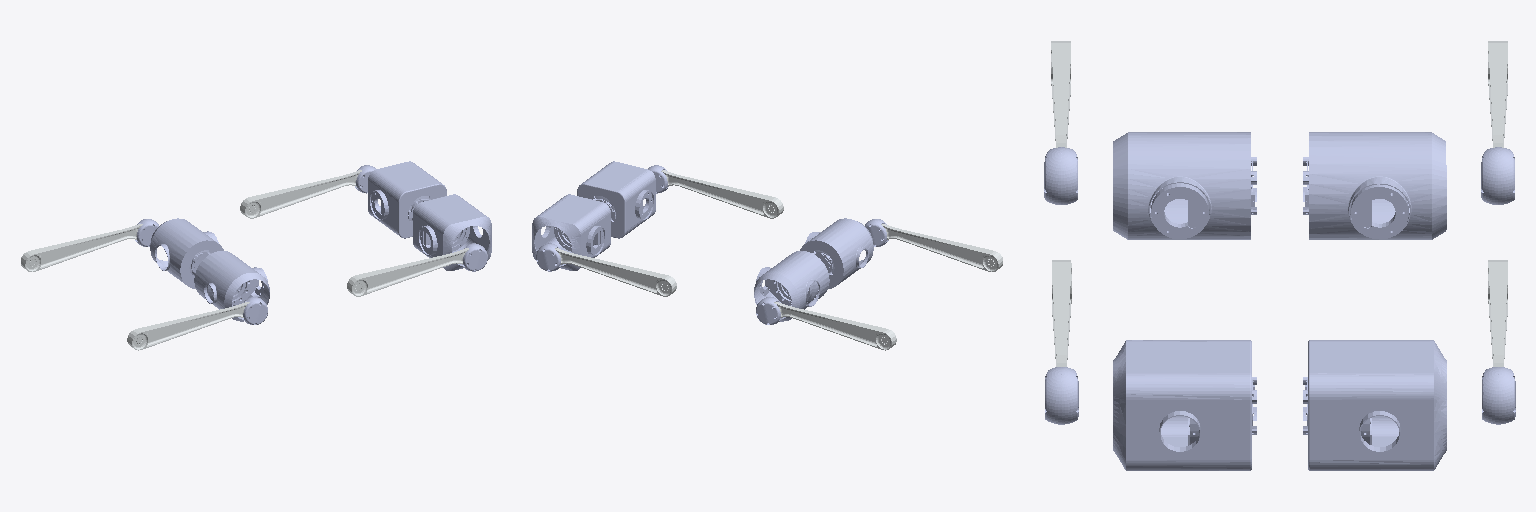
robot.urdf — stoch3:
<?xml version="1.0" encoding="utf-8"?>
<!-- This URDF was automatically created by SolidWorks to URDF Exporter! Originally created by [author] ([email redacted]) 
     Commit Version: 1.5.1-0-g916b5db  Build Version: 1.5.7152.31018
     For more information, please see http://wiki.ros.org/sw_urdf_exporter -->
<robot
  name="stoch3">
  <link
    name="base_link">
    <inertial>
      <origin
        xyz="-0.10238 -1.8464E-05 0.0026538"
        rpy="0 0 0" />
      <mass
        value="7.302" />
      <inertia
        ixx="0.0090197"
        ixy="2.2679E-06"
        ixz="6.4897E-05"
        iyy="0.0094033"
        iyz="-2.1628E-08"
        izz="0.01573" />
    </inertial>
    <visual>
      <origin
        xyz="0 0 0"
        rpy="0 0 0" />
      <geometry>
        <mesh
          filename="package://stoch3/meshes/base_link.STL" />
      </geometry>
      <material
        name="">
        <color
          rgba="0.75294 0.75294 0.75294 1" />
      </material>
    </visual>
    <collision>
      <origin
        xyz="0 0 0"
        rpy="0 0 0" />
      <geometry>
        <mesh
          filename="package://stoch3/meshes/base_link.STL" />
      </geometry>
    </collision>
  </link>
  <link
    name="fl_abd_link">
    <inertial>
      <origin
        xyz="0.070269 -0.036118 -2.601E-07"
        rpy="0 0 0" />
      <mass
        value="0.978" />
      <inertia
        ixx="0.00045941"
        ixy="-6.723E-07"
        ixz="3.3247E-08"
        iyy="0.00059328"
        iyz="5.8817E-09"
        izz="0.00046214" />
    </inertial>
    <visual>
      <origin
        xyz="0 0 0"
        rpy="0 0 0" />
      <geometry>
        <mesh
          filename="package://stoch3/meshes/fl_abd_link.STL" />
      </geometry>
      <material
        name="">
        <color
          rgba="0.79216 0.81961 0.93333 1" />
      </material>
    </visual>
    <collision>
      <origin
        xyz="0 0 0"
        rpy="0 0 0" />
      <geometry>
        <mesh
          filename="package://stoch3/meshes/fl_abd_link.STL" />
      </geometry>
    </collision>
  </link>
  <joint
    name="fl_abd_joint"
    type="revolute">
    <origin
      xyz="0.18598 0.10004 -0.0005"
      rpy="0 0 0.00021134" />
    <parent
      link="base_link" />
    <child
      link="fl_abd_link" />
    <axis
      xyz="-1 0 0" />
    <limit
      lower="-3.5708"
      upper="3.5708"
      effort="100"
      velocity="100" />
  </joint>
  <link
    name="fl_upper_leg_link">
    <inertial>
      <origin
        xyz="-0.072527 0.076425 1.3632E-05"
        rpy="0 0 0" />
      <mass
        value="1.547" />
      <inertia
        ixx="0.00031538"
        ixy="-4.0486E-06"
        ixz="-4.8938E-07"
        iyy="0.0031011"
        iyz="6.4786E-11"
        izz="0.0028703" />
    </inertial>
    <visual>
      <origin
        xyz="0 0 0"
        rpy="0 0 0" />
      <geometry>
        <mesh
          filename="package://stoch3/meshes/fl_upper_leg_link.STL" />
      </geometry>
      <material
        name="">
        <color
          rgba="0.79216 0.81961 0.93333 1" />
      </material>
    </visual>
    <collision>
      <origin
        xyz="0 0 0"
        rpy="0 0 0" />
      <geometry>
        <mesh
          filename="package://stoch3/meshes/fl_upper_leg_link.STL" />
      </geometry>
    </collision>
  </link>
  <joint
    name="fl_hip_joint"
    type="revolute">
    <origin
      xyz="0.074 -0.01975 0"
      rpy="0 0 0" />
    <parent
      link="fl_abd_link" />
    <child
      link="fl_upper_leg_link" />
    <axis
      xyz="0 -1 0" />
    <limit
      lower="-1.5708"
      upper="6.2832"
      effort="100"
      velocity="100" />
  </joint>
  <link
    name="fl_lower_leg_link">
    <inertial>
      <origin
        xyz="0.086252 5.8285E-07 0.0035444"
        rpy="0 0 0" />
      <mass
        value="0.18" />
      <inertia
        ixx="2.0675E-05"
        ixy="-2.4323E-09"
        ixz="-3.9572E-05"
        iyy="0.0010886"
        iyz="-8.8856E-10"
        izz="0.0010716" />
    </inertial>
    <visual>
      <origin
        xyz="0 0 0"
        rpy="0 0 0" />
      <geometry>
        <mesh
          filename="package://stoch3/meshes/fl_lower_leg_link.STL" />
      </geometry>
      <material
        name="">
        <color
          rgba="0.89804 0.91765 0.92941 1" />
      </material>
    </visual>
    <collision>
      <origin
        xyz="0 0 0"
        rpy="0 0 0" />
      <geometry>
        <mesh
          filename="package://stoch3/meshes/fl_lower_leg_link.STL" />
      </geometry>
    </collision>
  </link>
  <joint
    name="fl_knee_joint"
    type="revolute">
    <origin
      xyz="-0.297 0.1385 0"
      rpy="0 0 0" />
    <parent
      link="fl_upper_leg_link" />
    <child
      link="fl_lower_leg_link" />
    <axis
      xyz="0 1 0" />
    <limit
      lower="-6.28"
      upper="6.28"
      effort="100"
      velocity="100" />
  </joint>
  <link
    name="fl_foot_link">
    <inertial>
      <origin
        xyz="0.0031638 -3.2728E-12 -0.00086153"
        rpy="0 0 0" />
      <mass
        value="0.02" />
      <inertia
        ixx="1.2618E-05"
        ixy="-3.347E-13"
        ixz="-5.684E-07"
        iyy="2.1257E-05"
        iyz="-1.222E-12"
        izz="1.0686E-05" />
    </inertial>
    <visual>
      <origin
        xyz="0 0 0"
        rpy="0 0 0" />
      <geometry>
        <mesh
          filename="package://stoch3/meshes/fl_foot_link.STL" />
      </geometry>
      <material
        name="">
        <color
          rgba="0.79216 0.81961 0.93333 1" />
      </material>
    </visual>
    <collision>
      <origin
        xyz="0 0 0"
        rpy="0 0 0" />
      <geometry>
        <mesh
          filename="package://stoch3/meshes/fl_foot_link.STL" />
      </geometry>
    </collision>
  </link>
  <joint
    name="fl_ankel_joint"
    type="fixed">
    <origin
      xyz="0.27479 0 0.00065295"
      rpy="0 0 0" />
    <parent
      link="fl_lower_leg_link" />
    <child
      link="fl_foot_link" />
    <axis
      xyz="0 0 0" />
  </joint>
  <link
    name="fr_abd_link">
    <inertial>
      <origin
        xyz="0.07027 0.036118 -2.9553E-07"
        rpy="0 0 0" />
      <mass
        value="0.978" />
      <inertia
        ixx="0.00045941"
        ixy="6.965E-07"
        ixz="-3.3418E-08"
        iyy="0.00059328"
        iyz="-5.8767E-09"
        izz="0.00046214" />
    </inertial>
    <visual>
      <origin
        xyz="0 0 0"
        rpy="0 0 0" />
      <geometry>
        <mesh
          filename="package://stoch3/meshes/fr_abd_link.STL" />
      </geometry>
      <material
        name="">
        <color
          rgba="0.79216 0.81961 0.93333 1" />
      </material>
    </visual>
    <collision>
      <origin
        xyz="0 0 0"
        rpy="0 0 0" />
      <geometry>
        <mesh
          filename="package://stoch3/meshes/fr_abd_link.STL" />
      </geometry>
    </collision>
  </link>
  <joint
    name="fr_abd_joint"
    type="revolute">
    <origin
      xyz="0.18602 -0.099961 -0.0005"
      rpy="0 0 0.00021134" />
    <parent
      link="base_link" />
    <child
      link="fr_abd_link" />
    <axis
      xyz="1 0 0" />
    <limit
      lower="-3.5708"
      upper="3.5708"
      effort="100"
      velocity="100" />
  </joint>
  <link
    name="fr_upper_leg_link">
    <inertial>
      <origin
        xyz="-0.072527 -0.076425 -1.3632E-05"
        rpy="0 0 0" />
      <mass
        value="1.547" />
      <inertia
        ixx="0.00031538"
        ixy="4.0486E-06"
        ixz="4.8939E-07"
        iyy="0.0031011"
        iyz="6.4776E-11"
        izz="0.0028703" />
    </inertial>
    <visual>
      <origin
        xyz="0 0 0"
        rpy="0 0 0" />
      <geometry>
        <mesh
          filename="package://stoch3/meshes/fr_upper_leg_link.STL" />
      </geometry>
      <material
        name="">
        <color
          rgba="0.79216 0.81961 0.93333 1" />
      </material>
    </visual>
    <collision>
      <origin
        xyz="0 0 0"
        rpy="0 0 0" />
      <geometry>
        <mesh
          filename="package://stoch3/meshes/fr_upper_leg_link.STL" />
      </geometry>
    </collision>
  </link>
  <joint
    name="fr_hip_joint"
    type="revolute">
    <origin
      xyz="0.074 0.01975 0"
      rpy="0 0 0" />
    <parent
      link="fr_abd_link" />
    <child
      link="fr_upper_leg_link" />
    <axis
      xyz="0 -1 0" />
    <limit
      lower="-1.5708"
      upper="6.2832"
      effort="100"
      velocity="100" />
  </joint>
  <link
    name="fr_lower_leg_link">
    <inertial>
      <origin
        xyz="0.086252 5.8285E-07 0.0035444"
        rpy="0 0 0" />
      <mass
        value="0.18" />
      <inertia
        ixx="2.0675E-05"
        ixy="-2.4323E-09"
        ixz="-3.9572E-05"
        iyy="0.0010886"
        iyz="-8.8856E-10"
        izz="0.0010716" />
    </inertial>
    <visual>
      <origin
        xyz="0 0 0"
        rpy="0 0 0" />
      <geometry>
        <mesh
          filename="package://stoch3/meshes/fr_lower_leg_link.STL" />
      </geometry>
      <material
        name="">
        <color
          rgba="0.89804 0.91765 0.92941 1" />
      </material>
    </visual>
    <collision>
      <origin
        xyz="0 0 0"
        rpy="0 0 0" />
      <geometry>
        <mesh
          filename="package://stoch3/meshes/fr_lower_leg_link.STL" />
      </geometry>
    </collision>
  </link>
  <joint
    name="fr_knee_joint"
    type="revolute">
    <origin
      xyz="-0.297 -0.1385 0"
      rpy="0 0 0" />
    <parent
      link="fr_upper_leg_link" />
    <child
      link="fr_lower_leg_link" />
    <axis
      xyz="0 1 0" />
    <limit
      lower="-6.28"
      upper="6.28"
      effort="100"
      velocity="100" />
  </joint>
  <link
    name="fr_foot_link">
    <inertial>
      <origin
        xyz="0.0031638 -3.2734E-12 -0.00086153"
        rpy="0 0 0" />
      <mass
        value="0.02" />
      <inertia
        ixx="1.2618E-05"
        ixy="-3.347E-13"
        ixz="-5.684E-07"
        iyy="2.1257E-05"
        iyz="-1.222E-12"
        izz="1.0686E-05" />
    </inertial>
    <visual>
      <origin
        xyz="0 0 0"
        rpy="0 0 0" />
      <geometry>
        <mesh
          filename="package://stoch3/meshes/fr_foot_link.STL" />
      </geometry>
      <material
        name="">
        <color
          rgba="0.79216 0.81961 0.93333 1" />
      </material>
    </visual>
    <collision>
      <origin
        xyz="0 0 0"
        rpy="0 0 0" />
      <geometry>
        <mesh
          filename="package://stoch3/meshes/fr_foot_link.STL" />
      </geometry>
    </collision>
  </link>
  <joint
    name="fr_ankel_joint"
    type="fixed">
    <origin
      xyz="0.27479 0 0.00065295"
      rpy="0 0 0" />
    <parent
      link="fr_lower_leg_link" />
    <child
      link="fr_foot_link" />
    <axis
      xyz="0 0 0" />
  </joint>
  <link
    name="bl_abd_link">
    <inertial>
      <origin
        xyz="-0.06995 -0.037322 -1.8681E-06"
        rpy="0 0 0" />
      <mass
        value="0.978" />
      <inertia
        ixx="0.00039025"
        ixy="5.9364E-08"
        ixz="1.1626E-07"
        iyy="0.00050148"
        iyz="5.3635E-09"
        izz="0.00037524" />
    </inertial>
    <visual>
      <origin
        xyz="0 0 0"
        rpy="0 0 0" />
      <geometry>
        <mesh
          filename="package://stoch3/meshes/bl_abd_link.STL" />
      </geometry>
      <material
        name="">
        <color
          rgba="0.79216 0.81961 0.93333 1" />
      </material>
    </visual>
    <collision>
      <origin
        xyz="0 0 0"
        rpy="0 0 0" />
      <geometry>
        <mesh
          filename="package://stoch3/meshes/bl_abd_link.STL" />
      </geometry>
    </collision>
  </link>
  <joint
    name="bl_abd_joint"
    type="revolute">
    <origin
      xyz="-0.18602 0.099961 -0.0005"
      rpy="0 0 0.00021134" />
    <parent
      link="base_link" />
    <child
      link="bl_abd_link" />
    <axis
      xyz="-1 0 0" />
    <limit
      lower="-3.5708"
      upper="3.5708"
      effort="100"
      velocity="100" />
  </joint>
  <link
    name="bl_upper_leg_link">
    <inertial>
      <origin
        xyz="-0.072527 0.076425 1.3632E-05"
        rpy="0 0 0" />
      <mass
        value="1.547" />
      <inertia
        ixx="0.00031538"
        ixy="-4.0486E-06"
        ixz="-4.8938E-07"
        iyy="0.0031011"
        iyz="6.4786E-11"
        izz="0.0028703" />
    </inertial>
    <visual>
      <origin
        xyz="0 0 0"
        rpy="0 0 0" />
      <geometry>
        <mesh
          filename="package://stoch3/meshes/bl_upper_leg_link.STL" />
      </geometry>
      <material
        name="">
        <color
          rgba="0.79216 0.81961 0.93333 1" />
      </material>
    </visual>
    <collision>
      <origin
        xyz="0 0 0"
        rpy="0 0 0" />
      <geometry>
        <mesh
          filename="package://stoch3/meshes/bl_upper_leg_link.STL" />
      </geometry>
    </collision>
  </link>
  <joint
    name="bl_hip_joint"
    type="revolute">
    <origin
      xyz="-0.074 -0.01975 0"
      rpy="0 0 0" />
    <parent
      link="bl_abd_link" />
    <child
      link="bl_upper_leg_link" />
    <axis
      xyz="0 -1 0" />
    <limit
      lower="-1.5708"
      upper="6.2832"
      effort="100"
      velocity="100" />
  </joint>
  <link
    name="bl_lower_leg_link">
    <inertial>
      <origin
        xyz="0.086252 5.8285E-07 0.0035444"
        rpy="0 0 0" />
      <mass
        value="0.18" />
      <inertia
        ixx="2.0675E-05"
        ixy="-2.4323E-09"
        ixz="-3.9572E-05"
        iyy="0.0010886"
        iyz="-8.8856E-10"
        izz="0.0010716" />
    </inertial>
    <visual>
      <origin
        xyz="0 0 0"
        rpy="0 0 0" />
      <geometry>
        <mesh
          filename="package://stoch3/meshes/bl_lower_leg_link.STL" />
      </geometry>
      <material
        name="">
        <color
          rgba="0.89804 0.91765 0.92941 1" />
      </material>
    </visual>
    <collision>
      <origin
        xyz="0 0 0"
        rpy="0 0 0" />
      <geometry>
        <mesh
          filename="package://stoch3/meshes/bl_lower_leg_link.STL" />
      </geometry>
    </collision>
  </link>
  <joint
    name="bl_knee_joint"
    type="revolute">
    <origin
      xyz="-0.297 0.1385 0"
      rpy="0 0 0" />
    <parent
      link="bl_upper_leg_link" />
    <child
      link="bl_lower_leg_link" />
    <axis
      xyz="0 1 0" />
    <limit
      lower="-6.28"
      upper="6.28"
      effort="100"
      velocity="100" />
  </joint>
  <link
    name="bl_foot_link">
    <inertial>
      <origin
        xyz="0.0031638 -3.2734E-12 -0.00086153"
        rpy="0 0 0" />
      <mass
        value="0.02" />
      <inertia
        ixx="1.2618E-05"
        ixy="-3.347E-13"
        ixz="-5.684E-07"
        iyy="2.1257E-05"
        iyz="-1.222E-12"
        izz="1.0686E-05" />
    </inertial>
    <visual>
      <origin
        xyz="0 0 0"
        rpy="0 0 0" />
      <geometry>
        <mesh
          filename="package://stoch3/meshes/bl_foot_link.STL" />
      </geometry>
      <material
        name="">
        <color
          rgba="0.79216 0.81961 0.93333 1" />
      </material>
    </visual>
    <collision>
      <origin
        xyz="0 0 0"
        rpy="0 0 0" />
      <geometry>
        <mesh
          filename="package://stoch3/meshes/bl_foot_link.STL" />
      </geometry>
    </collision>
  </link>
  <joint
    name="bl_ankel_joint"
    type="fixed">
    <origin
      xyz="0.27479 0 0.00065295"
      rpy="0 0 0" />
    <parent
      link="bl_lower_leg_link" />
    <child
      link="bl_foot_link" />
    <axis
      xyz="0 0 0" />
  </joint>
  <link
    name="br_abd_link">
    <inertial>
      <origin
        xyz="-0.070173 0.037288 -1.5868E-07"
        rpy="0 0 0" />
      <mass
        value="0.978" />
      <inertia
        ixx="0.00038996"
        ixy="-9.0848E-07"
        ixz="-8.0338E-08"
        iyy="0.00050185"
        iyz="-1.0951E-09"
        izz="0.00037578" />
    </inertial>
    <visual>
      <origin
        xyz="0 0 0"
        rpy="0 0 0" />
      <geometry>
        <mesh
          filename="package://stoch3/meshes/br_abd_link.STL" />
      </geometry>
      <material
        name="">
        <color
          rgba="0.79216 0.81961 0.93333 1" />
      </material>
    </visual>
    <collision>
      <origin
        xyz="0 0 0"
        rpy="0 0 0" />
      <geometry>
        <mesh
          filename="package://stoch3/meshes/br_abd_link.STL" />
      </geometry>
    </collision>
  </link>
  <joint
    name="br_abd_joint"
    type="revolute">
    <origin
      xyz="-0.18598 -0.10004 -0.0005"
      rpy="0 0 0.00021134" />
    <parent
      link="base_link" />
    <child
      link="br_abd_link" />
    <axis
      xyz="1 0 0" />
    <limit
      lower="-3.5708"
      upper="3.5708"
      effort="100"
      velocity="100" />
  </joint>
  <link
    name="br_upper_leg_link">
    <inertial>
      <origin
        xyz="-0.072527 -0.076425 -1.3632E-05"
        rpy="0 0 0" />
      <mass
        value="1.547" />
      <inertia
        ixx="0.00031538"
        ixy="4.0486E-06"
        ixz="4.8939E-07"
        iyy="0.0031011"
        iyz="6.4776E-11"
        izz="0.0028703" />
    </inertial>
    <visual>
      <origin
        xyz="0 0 0"
        rpy="0 0 0" />
      <geometry>
        <mesh
          filename="package://stoch3/meshes/br_upper_leg_link.STL" />
      </geometry>
      <material
        name="">
        <color
          rgba="0.79216 0.81961 0.93333 1" />
      </material>
    </visual>
    <collision>
      <origin
        xyz="0 0 0"
        rpy="0 0 0" />
      <geometry>
        <mesh
          filename="package://stoch3/meshes/br_upper_leg_link.STL" />
      </geometry>
    </collision>
  </link>
  <joint
    name="br_hip_joint"
    type="revolute">
    <origin
      xyz="-0.074 0.01975 0"
      rpy="0 0 0" />
    <parent
      link="br_abd_link" />
    <child
      link="br_upper_leg_link" />
    <axis
      xyz="0 -1 0" />
    <limit
      lower="-1.5708"
      upper="6.2832"
      effort="100"
      velocity="100" />
  </joint>
  <link
    name="br_lower_leg_link">
    <inertial>
      <origin
        xyz="0.086252 5.8285E-07 0.0035444"
        rpy="0 0 0" />
      <mass
        value="0.18" />
      <inertia
        ixx="2.0675E-05"
        ixy="-2.4323E-09"
        ixz="-3.9572E-05"
        iyy="0.0010886"
        iyz="-8.8856E-10"
        izz="0.0010716" />
    </inertial>
    <visual>
      <origin
        xyz="0 0 0"
        rpy="0 0 0" />
      <geometry>
        <mesh
          filename="package://stoch3/meshes/br_lower_leg_link.STL" />
      </geometry>
      <material
        name="">
        <color
          rgba="0.89804 0.91765 0.92941 1" />
      </material>
    </visual>
    <collision>
      <origin
        xyz="0 0 0"
        rpy="0 0 0" />
      <geometry>
        <mesh
          filename="package://stoch3/meshes/br_lower_leg_link.STL" />
      </geometry>
    </collision>
  </link>
  <joint
    name="br_knee_joint"
    type="revolute">
    <origin
      xyz="-0.297 -0.1385 0"
      rpy="0 0 0" />
    <parent
      link="br_upper_leg_link" />
    <child
      link="br_lower_leg_link" />
    <axis
      xyz="0 1 0" />
    <limit
      lower="-6.28"
      upper="6.28"
      effort="100"
      velocity="100" />
  </joint>
  <link
    name="br_foot_link">
    <inertial>
      <origin
        xyz="0.0031638 -3.2731E-12 -0.00086153"
        rpy="0 0 0" />
      <mass
        value="0.02" />
      <inertia
        ixx="1.2618E-05"
        ixy="-3.347E-13"
        ixz="-5.684E-07"
        iyy="2.1257E-05"
        iyz="-1.222E-12"
        izz="1.0686E-05" />
    </inertial>
    <visual>
      <origin
        xyz="0 0 0"
        rpy="0 0 0" />
      <geometry>
        <mesh
          filename="package://stoch3/meshes/br_foot_link.STL" />
      </geometry>
      <material
        name="">
        <color
          rgba="0.79216 0.81961 0.93333 1" />
      </material>
    </visual>
    <collision>
      <origin
        xyz="0 0 0"
        rpy="0 0 0" />
      <geometry>
        <mesh
          filename="package://stoch3/meshes/br_foot_link.STL" />
      </geometry>
    </collision>
  </link>
  <joint
    name="br_ankel_joint"
    type="fixed">
    <origin
      xyz="0.27479 0 0.00065295"
      rpy="0 0 0" />
    <parent
      link="br_lower_leg_link" />
    <child
      link="br_foot_link" />
    <axis
      xyz="0 0 0" />
  </joint>
</robot>

--- What the picture shows (computed from the rendered views, not written in the file) ---
Views: 3 orthographic renders of the robot side by side, from view 1: azimuth 30°, elevation 25°; view 2: azimuth 150°, elevation 25°; view 3: azimuth 270°, elevation 25°.
Robot: stoch3 — 17 links, 16 joints (12 revolute, 4 fixed); root link base_link; default pose: all joints at 0.
Visible links, largest first — view 1: fr_abd_link, fl_abd_link, br_abd_link, bl_abd_link, fr_lower_leg_link, bl_lower_leg_link, fl_lower_leg_link, br_lower_leg_link, fr_foot_link, br_foot_link; view 2: fl_abd_link, fr_abd_link, bl_abd_link, br_abd_link, fl_lower_leg_link, fr_lower_leg_link, bl_lower_leg_link, br_lower_leg_link, fl_foot_link, bl_foot_link; view 3: fl_abd_link, fr_abd_link, br_abd_link, bl_abd_link, fl_lower_leg_link, fr_lower_leg_link, br_lower_leg_link, bl_lower_leg_link, br_foot_link, fr_foot_link, bl_foot_link, fl_foot_link.
Boxes of the visible links, x1,y1,x2,y2 form: fr_abd_link: (413,194,491,270); fl_abd_link: (368,161,446,238); br_abd_link: (194,251,269,321); bl_abd_link: (150,218,223,288); fr_lower_leg_link: (347,248,468,296); bl_lower_leg_link: (21,224,142,271); fl_lower_leg_link: (240,170,361,218); br_lower_leg_link: (127,302,249,350); fr_foot_link: (462,243,487,271); br_foot_link: (242,297,267,324); fl_abd_link: (532,194,610,270); fr_abd_link: (577,161,655,238); bl_abd_link: (754,251,829,321); br_abd_link: (800,218,873,288); fl_lower_leg_link: (555,248,676,296); fr_lower_leg_link: (661,170,783,218); bl_lower_leg_link: (774,302,896,350); br_lower_leg_link: (881,224,1002,271); fl_foot_link: (536,243,562,271); bl_foot_link: (756,297,781,324); fl_abd_link: (1303,340,1446,470); fr_abd_link: (1113,340,1256,470); br_abd_link: (1113,132,1256,239); bl_abd_link: (1303,132,1446,239); fl_lower_leg_link: (1488,260,1507,366); fr_lower_leg_link: (1052,260,1071,366); br_lower_leg_link: (1051,41,1070,147); bl_lower_leg_link: (1488,41,1507,147); br_foot_link: (1044,147,1077,204); fr_foot_link: (1045,367,1078,424); bl_foot_link: (1481,147,1514,204); fl_foot_link: (1482,367,1515,424).
Bounding box of the posed robot: 0.9039 × 0.4716 × 0.1079 m (x, y, z).
Meshes: 17 distinct files referenced, 12 mesh visuals loaded (12 binary STL); not drawn: 5 (reference not matched to a file when rendering).